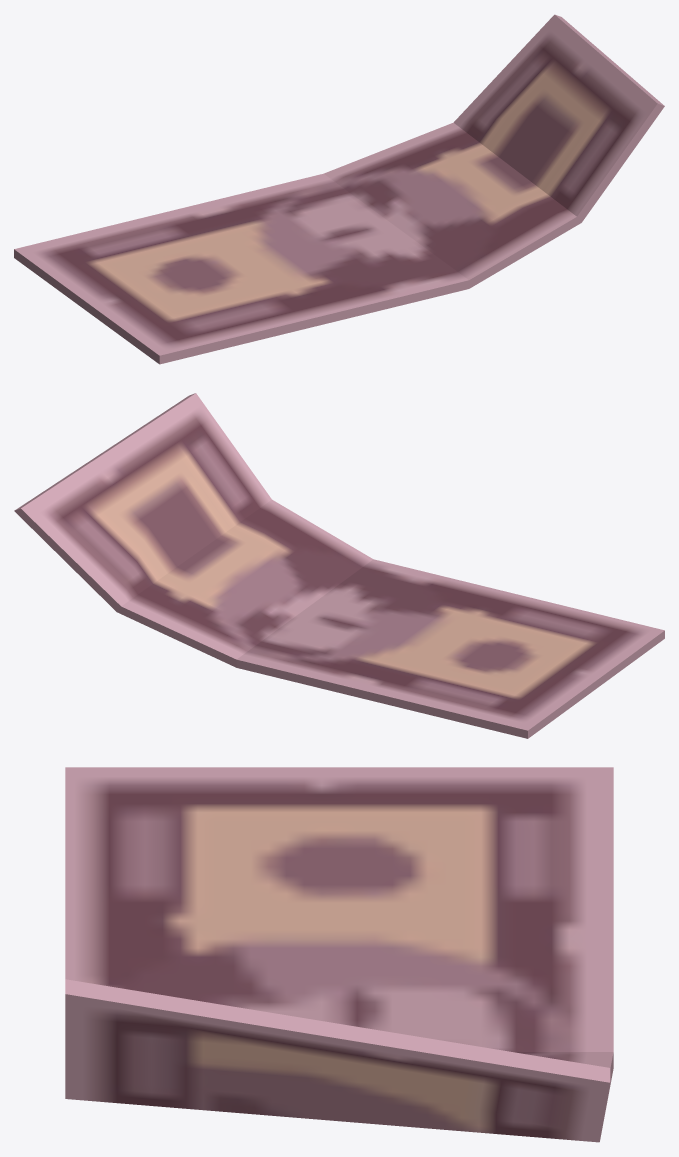
Rendered from SM_Prop_Money_Note_02.glb.
3 renders of one model, top to bottom at view 1: azimuth 30°, elevation 25°; view 2: azimuth 150°, elevation 25°; view 3: azimuth 270°, elevation 25°, orthographic. The views are drawn at different scales.
Parts seen in each view (by area): view 1: SM_Prop_Money_Note_02; view 2: SM_Prop_Money_Note_02; view 3: SM_Prop_Money_Note_02.
Boxes of the visible parts, x1,y1,x2,y2 form: SM_Prop_Money_Note_02: [14, 14, 664, 364]; SM_Prop_Money_Note_02: [14, 393, 664, 738]; SM_Prop_Money_Note_02: [65, 767, 613, 1142].
Size of the model in its own units: 0.2416 by 0.0588 by 0.1114.
1 material, 1 textured.
